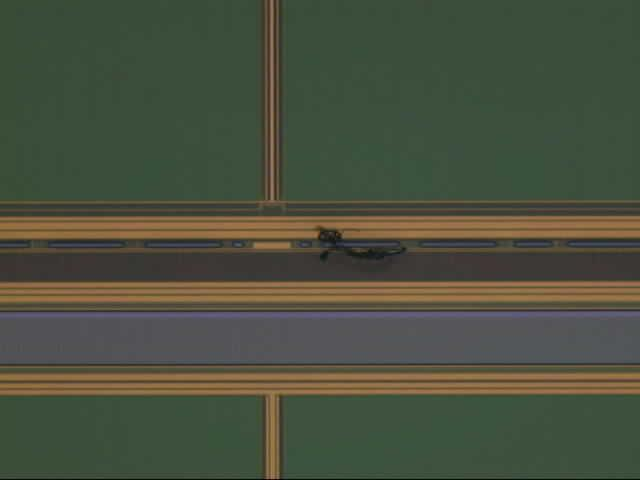PIQ PARTICLE: (313, 221, 411, 265)
